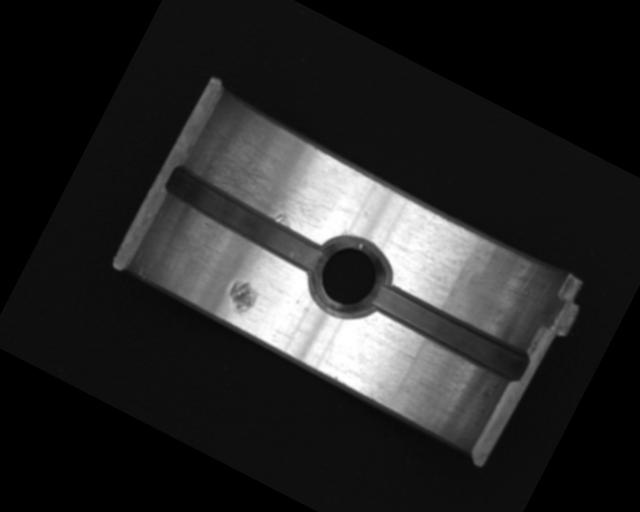bruise: (220, 275, 262, 320)
gap: (158, 160, 334, 278), (367, 278, 533, 385)
hole: (299, 224, 402, 331)
scratch: (191, 108, 363, 249)
